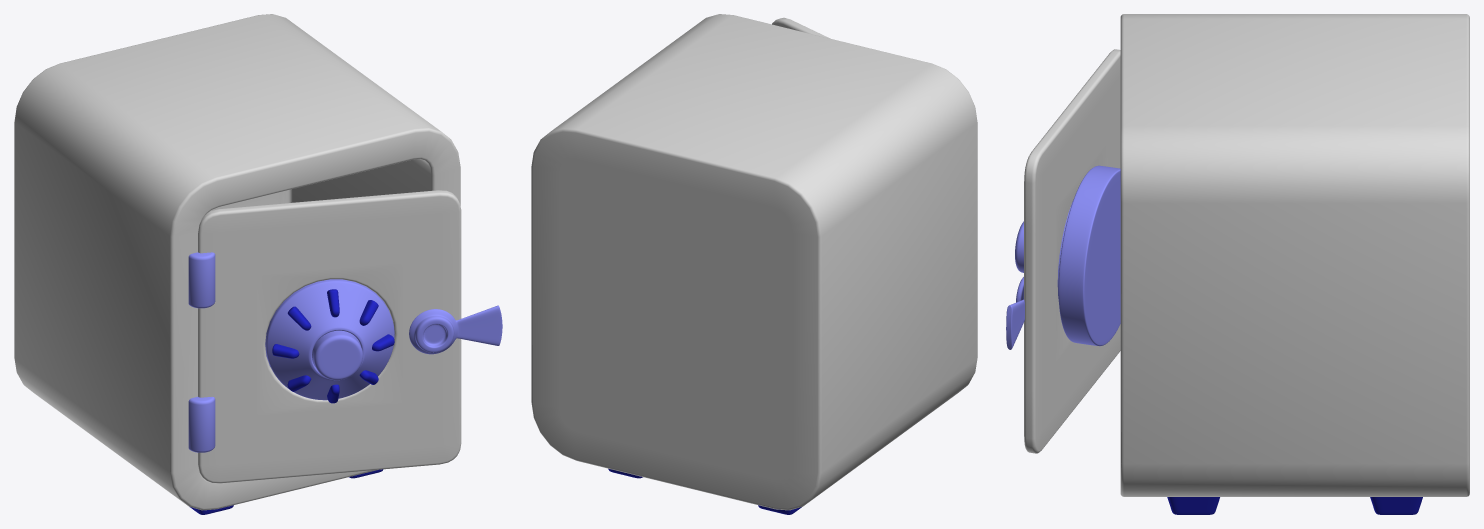
The model's file is safe.glb.
3 renders of one model, left to right at view 1: azimuth 30°, elevation 25°; view 2: azimuth 150°, elevation 25°; view 3: azimuth 270°, elevation 25°, orthographic. The views are drawn at different scales.
Parts seen in each view (by area): view 1: body_7, door_5, Cylinder.002_3, Handle_4, rotator_6, object 4, Cylinder.003_1; view 2: body_7; view 3: body_7, door_5, Cylinder.002_3, Cube.001_0, Handle_4.
Boxes of the visible parts, x1=… form: body_7: x1=14, y1=14, x2=460, y2=510; door_5: x1=198, y1=190, x2=461, y2=483; Cylinder.002_3: x1=265, y1=279, x2=394, y2=400; Handle_4: x1=409, y1=305, x2=502, y2=354; rotator_6: x1=188, y1=252, x2=215, y2=452; object 4: x1=272, y1=289, x2=394, y2=403; Cylinder.003_1: x1=312, y1=330, x2=362, y2=380; body_7: x1=531, y1=14, x2=977, y2=510; body_7: x1=1120, y1=14, x2=1469, y2=496; door_5: x1=1024, y1=49, x2=1120, y2=453; Cylinder.002_3: x1=1057, y1=165, x2=1120, y2=346; Cube.001_0: x1=1167, y1=497, x2=1422, y2=514; Handle_4: x1=1006, y1=277, x2=1024, y2=349.
Bounding box in the file's own units: 1.12 × 1.32 × 1.41.
